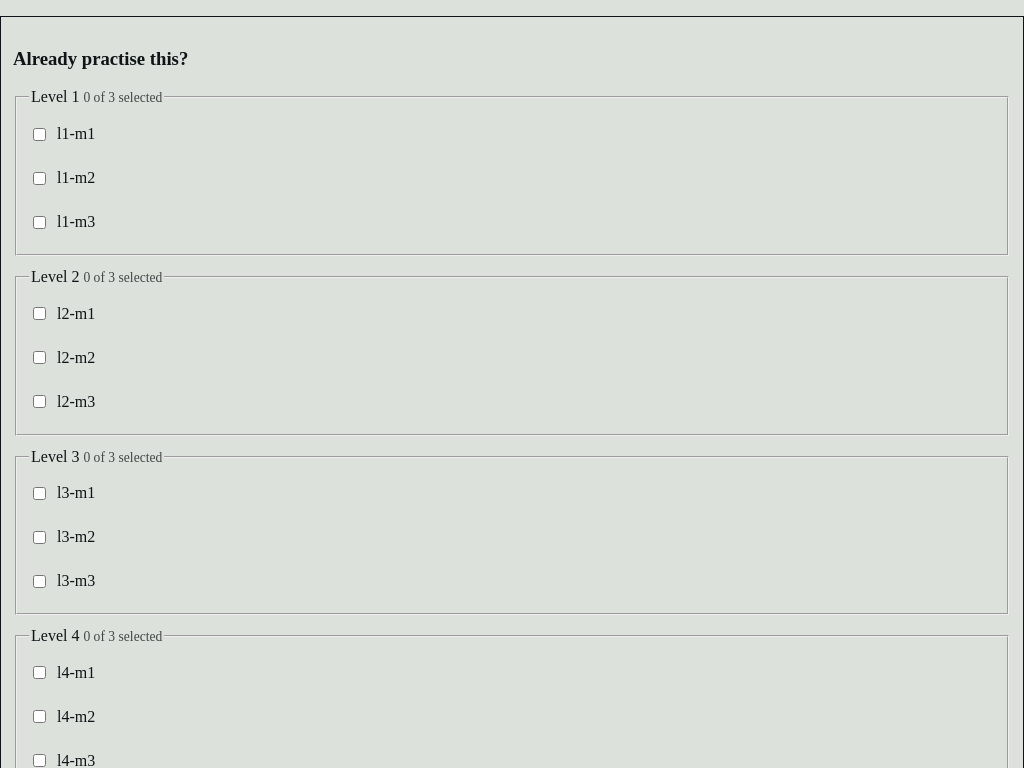
Scenario: F29 — placement is bulk completion and nothing else › groups the list by level with a running count per level (§15.6)
Expected: the text "0 of 3 selected" next to "Level 1" is shown, [83, 90, 162, 105]
Click the checkbox labelled "l1-m1" at (40, 134), box [33, 128, 46, 140]
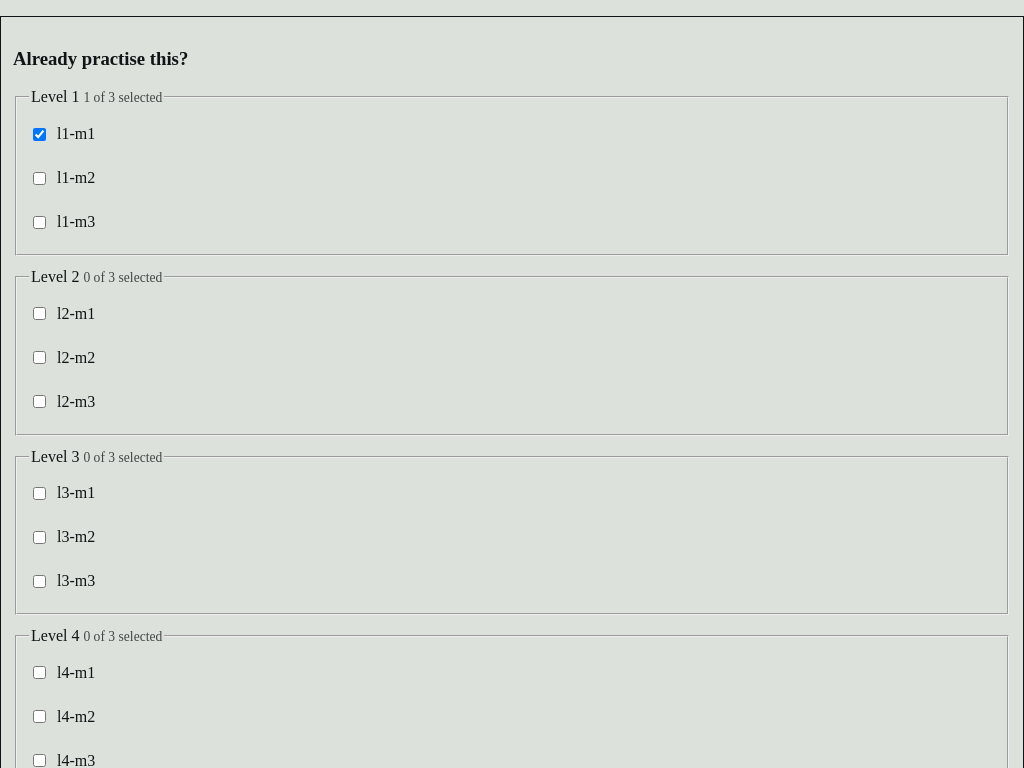
Expected: the text "0 of 3 selected" next to "Level 2" is shown, [83, 270, 162, 285]
Expected: the text "1 of 3 selected" is shown, [83, 90, 162, 105]
